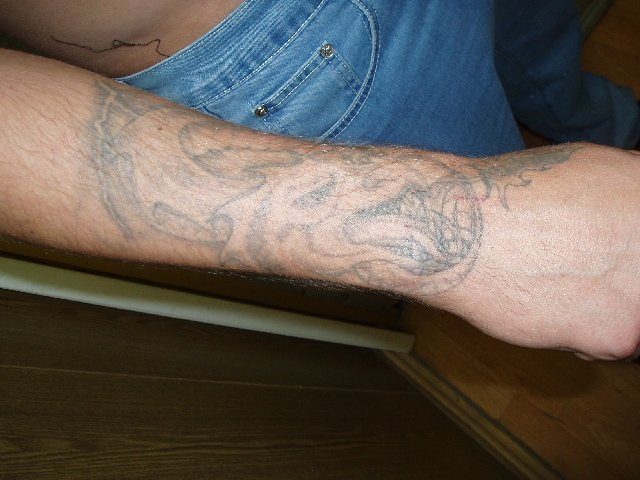tatu6_drakon: (88, 77, 597, 302)
